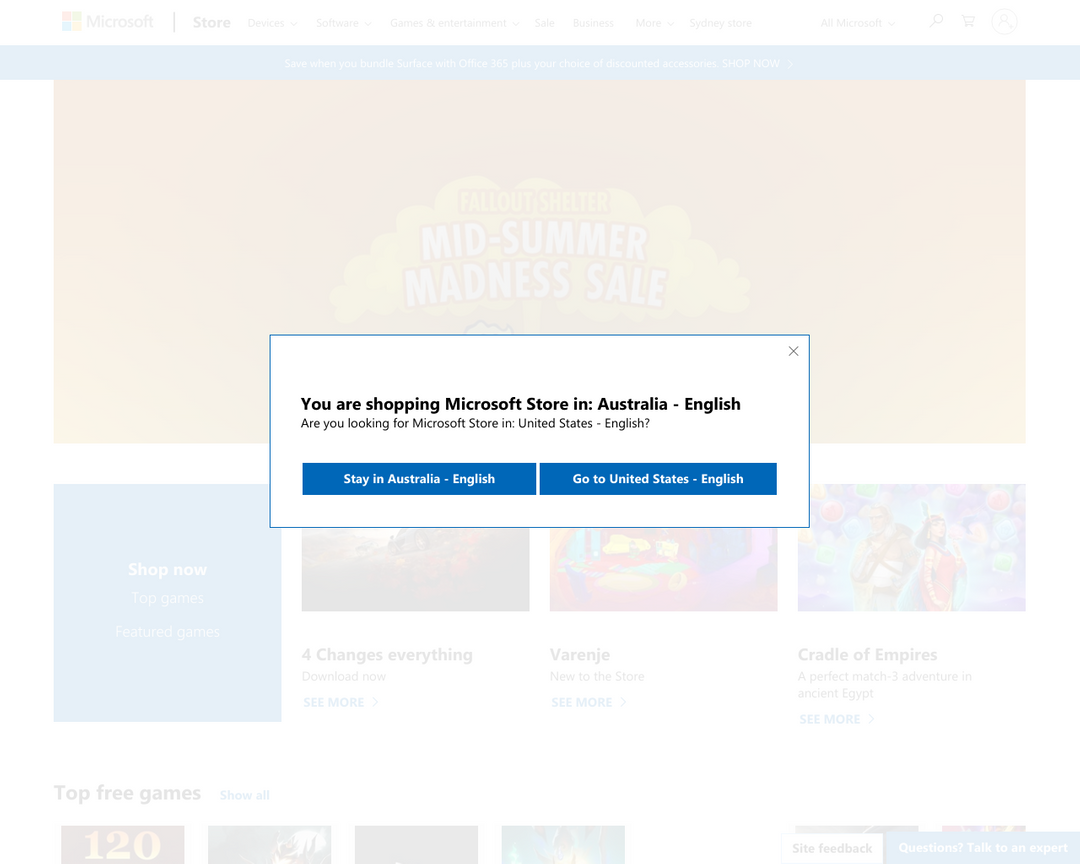Microsoft: (52, 6, 157, 34), (441, 394, 525, 416)
